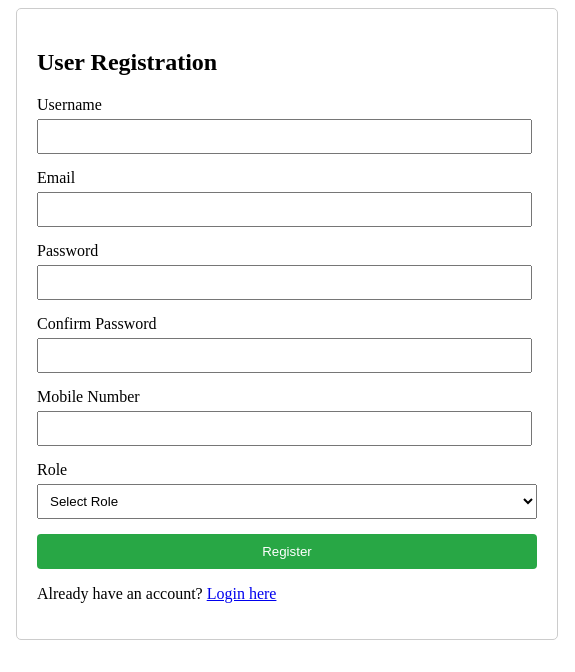
Scenario: RegisterComponent › Frontend_day35_should_show_password_required_error_message_on_register_page
Step 1. Clear the password field labelled "Password" → (284, 282), box [37, 265, 532, 300]
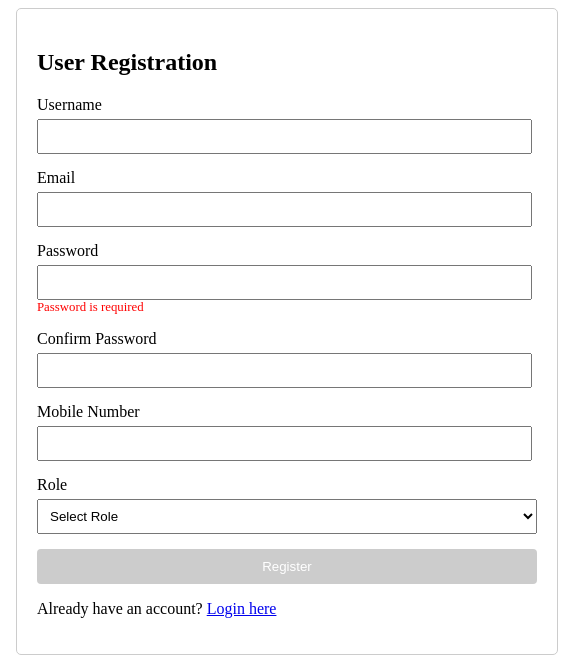
Expected: the element with class "error-message" reads "Password is required", [37, 300, 144, 314]
